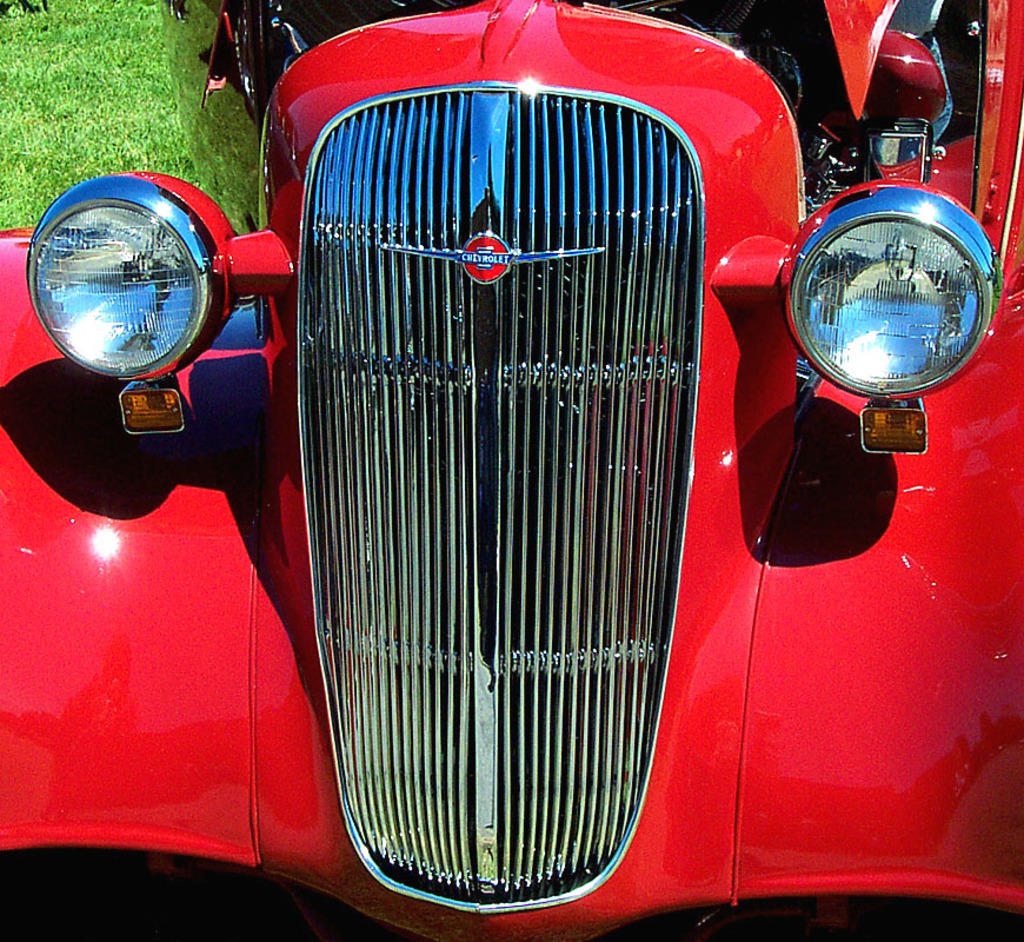Car: (0, 0, 1022, 940)
